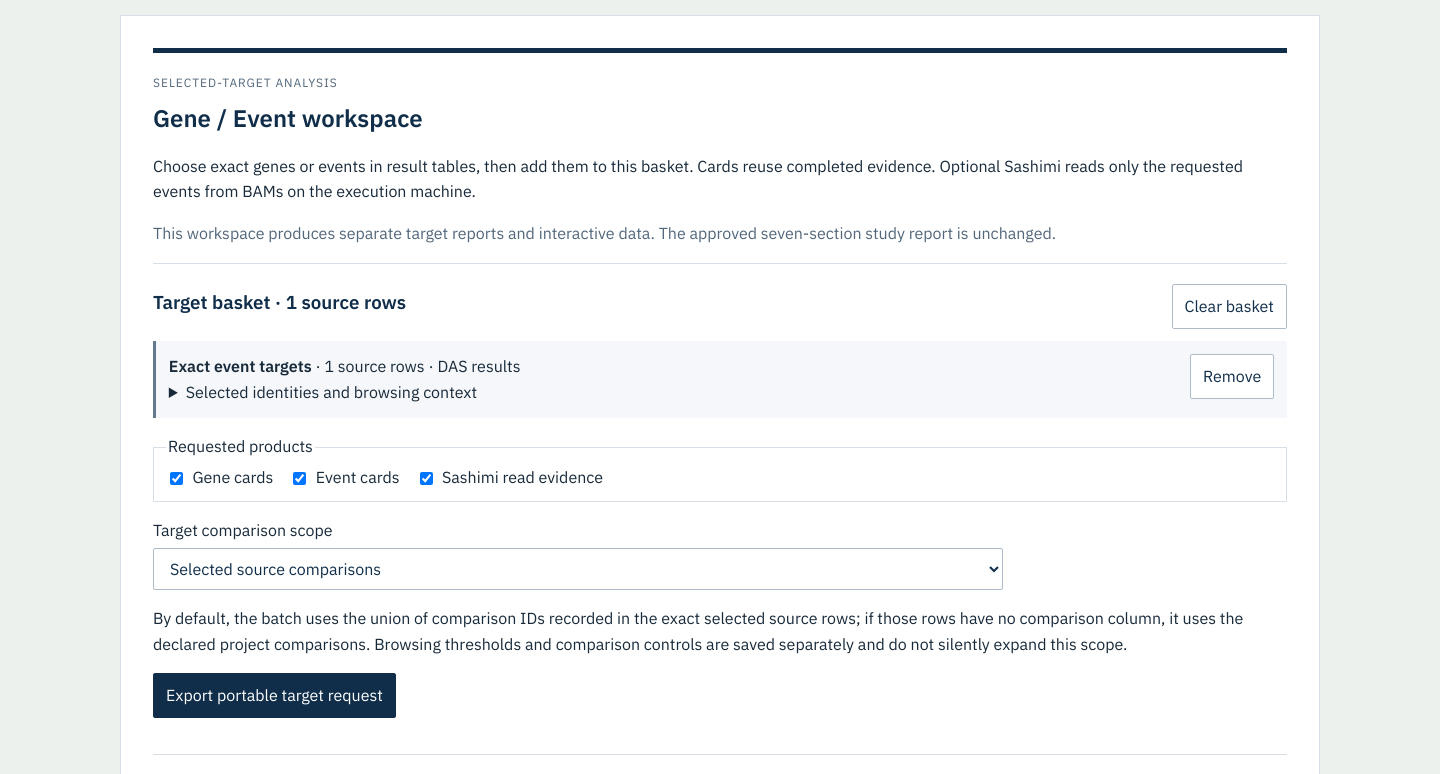
Test case: exports explicit all-project comparison scope and displays the verified target scope
The image size is (1440, 774).
Select "All project comparisons" in the dropdown labelled "Target comparison scope" at coordinates (578, 569), box [153,548,1003,590]
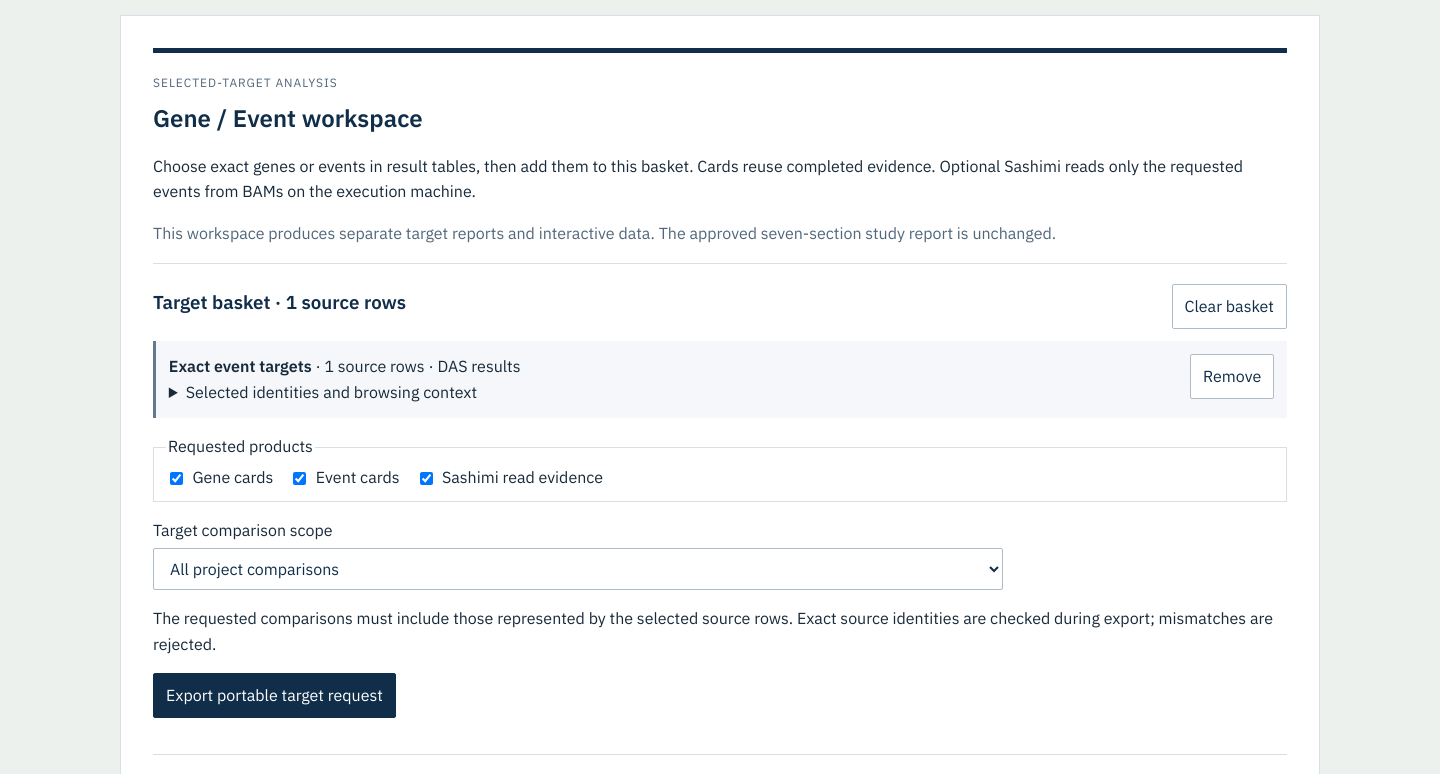
Click the button "Export portable target request" at coordinates (274, 696), box [153,673,396,718]
(page scrolled)
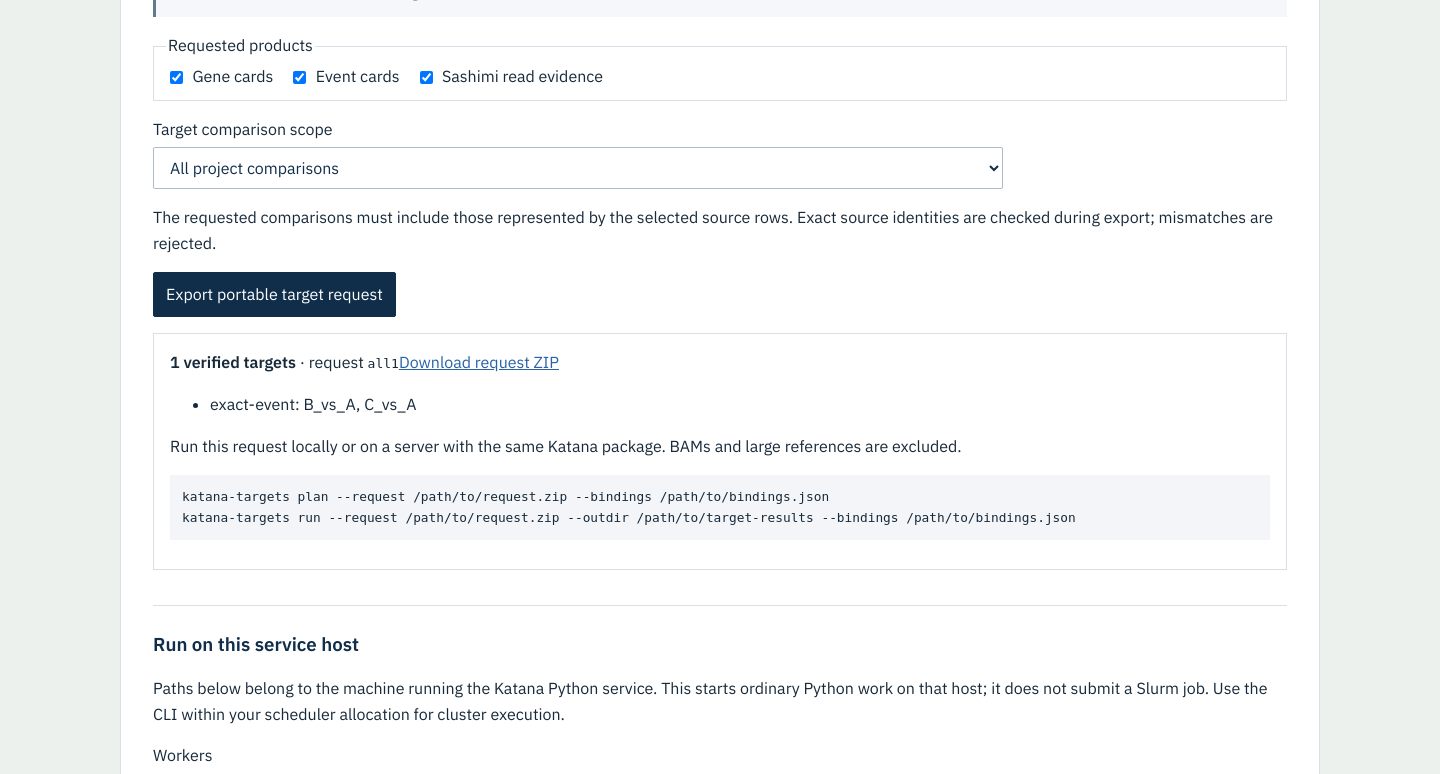
Check: the link "Download request ZIP" is shown, box [399,352,559,372]
Check: the list item "exact-event: B_vs_A, C_vs_A" is shown, box [210,394,417,414]
